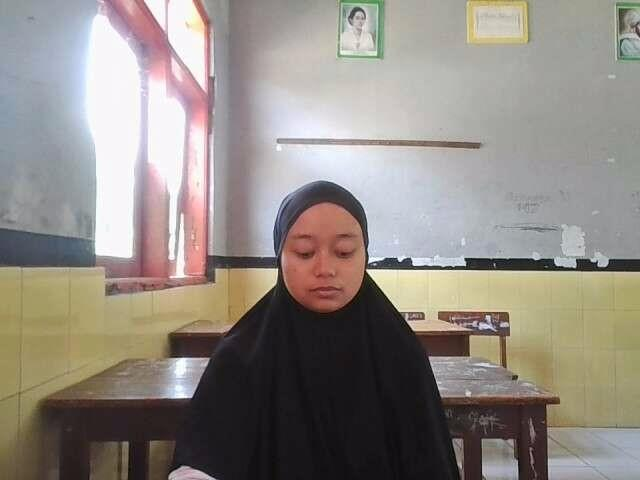good: (148, 171, 492, 480)
